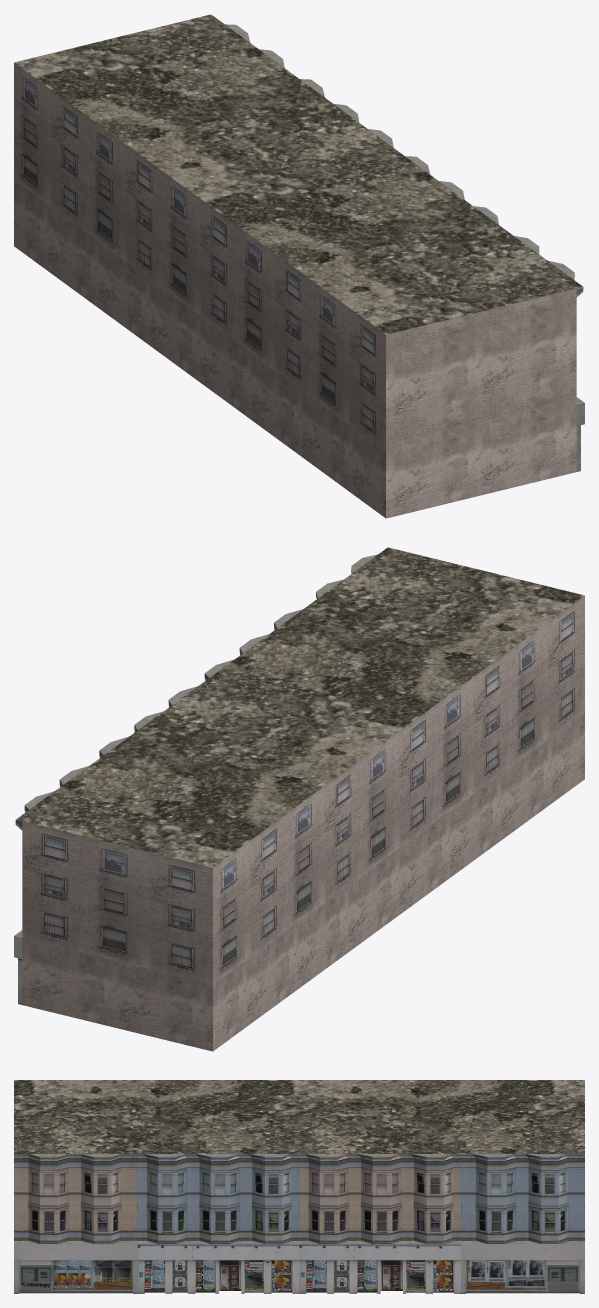
Rendered from smallshop_10_sfs06.obj.
3 renders of one model, top to bottom at view 1: azimuth 30°, elevation 25°; view 2: azimuth 150°, elevation 25°; view 3: azimuth 270°, elevation 25°, orthographic. The views are drawn at different scales.
Parts seen in each view (by area): view 1: smallshop_10_SFS06; view 2: smallshop_10_SFS06; view 3: smallshop_10_SFS06.
Boxes of the visible parts, x1,y1,x2,y2 form: smallshop_10_SFS06: (14,14,584,518); smallshop_10_SFS06: (14,547,584,1051); smallshop_10_SFS06: (14,1080,584,1293).
Size of the model in its own units: 14 by 11.97 by 43.92.
9 materials, 9 textured.
